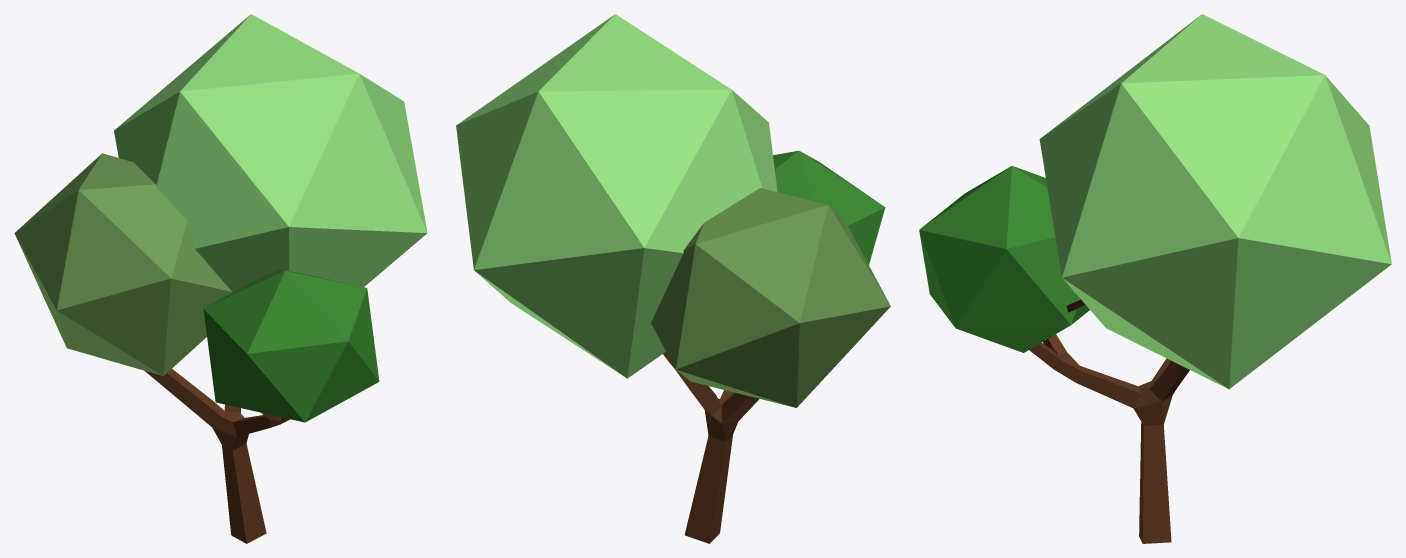
File: GreatTree.fbx
The picture shows the model from 3 angles, left to right: view 1: azimuth 30°, elevation 25°; view 2: azimuth 150°, elevation 25°; view 3: azimuth 270°, elevation 25°; orthographic projection. The views are drawn at different scales.
Parts seen in each view (by area): view 1: Cube.014; view 2: Cube.014; view 3: Cube.014.
Part boxes in pixels (left/top/right/bottom): Cube.014: left=14, top=14, right=427, bottom=543; Cube.014: left=456, top=14, right=890, bottom=543; Cube.014: left=919, top=14, right=1391, bottom=543.
Size of the model in its own units: 2115 by 2425 by 2032.
